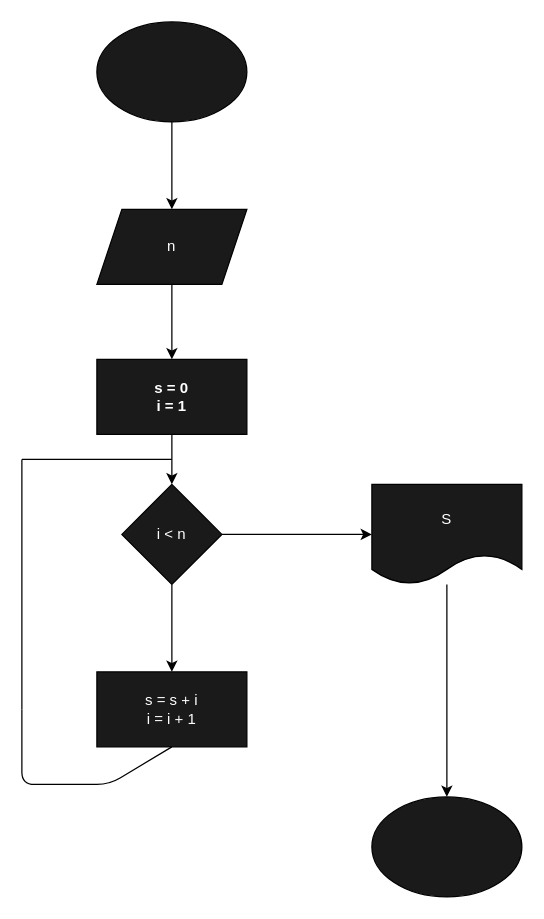
Image size: 544x919. Some labels were removed from this diagram. Here are the shapes that lost their labels. From the top down, the centre of each, then its label:
At (171,71): "Inicio".
At (446,846): "Fin".
